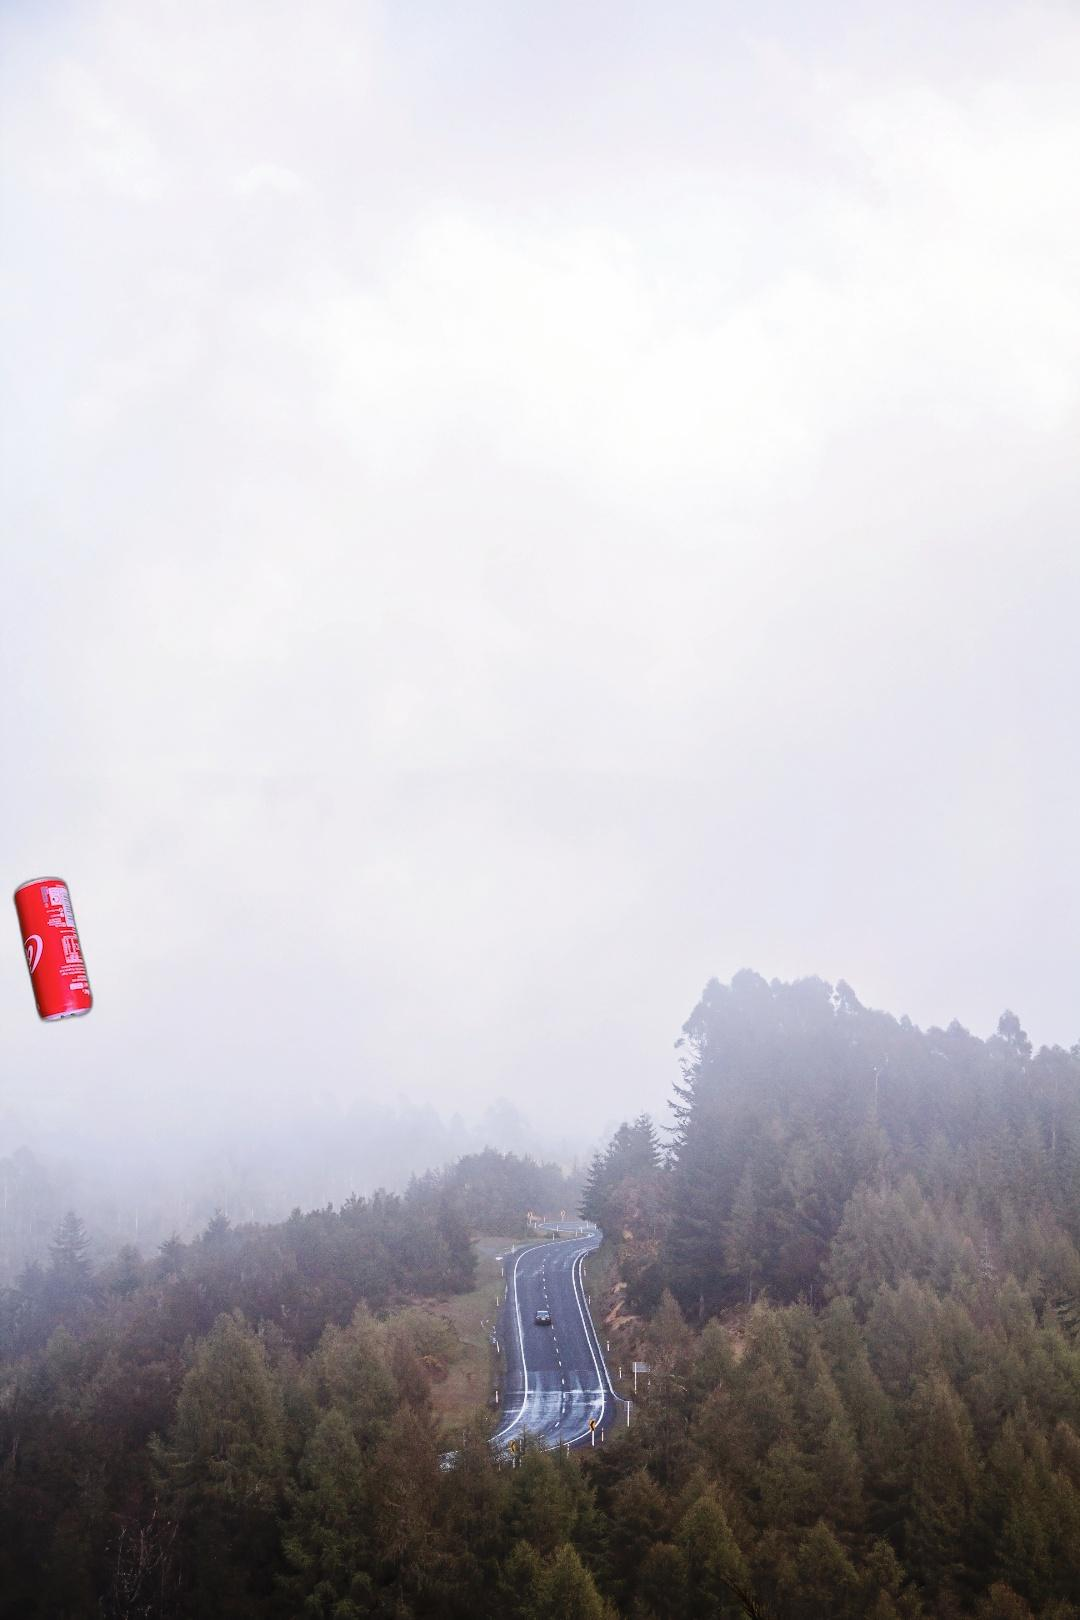metal-cans: (10, 871, 96, 1027)
